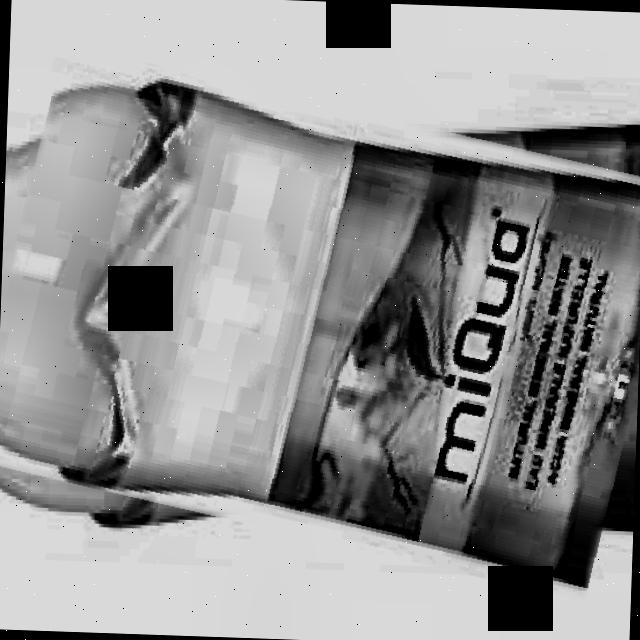bottle: (0, 75, 640, 589)
